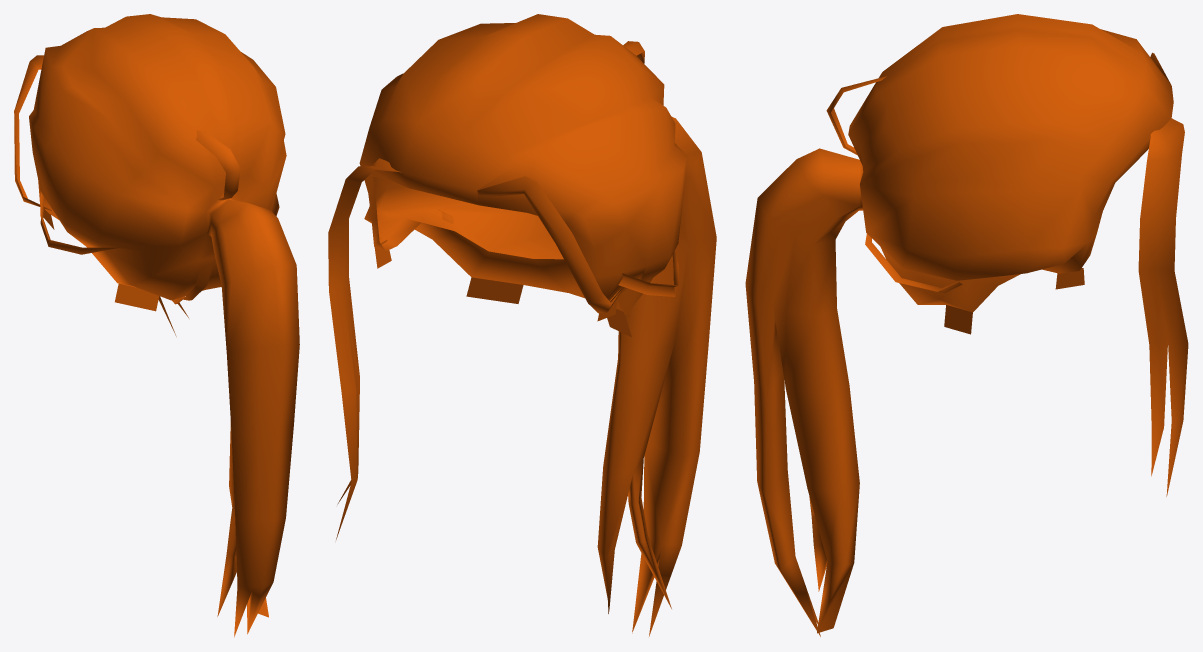
Rendered from female_hair_ponytail2.fbx.
3 renders of one model, left to right at view 1: azimuth 30°, elevation 25°; view 2: azimuth 150°, elevation 25°; view 3: azimuth 270°, elevation 25°, orthographic. The views are drawn at different scales.
Visible parts, largest first — view 1: Hair; view 2: Hair; view 3: Hair.
Part boxes in pixels (x1,y1,x2,y2): Hair: (14,14,299,637); Hair: (328,14,716,636); Hair: (745,14,1188,636).
Size of the model in its own units: 21.82 by 49.12 by 32.49.
